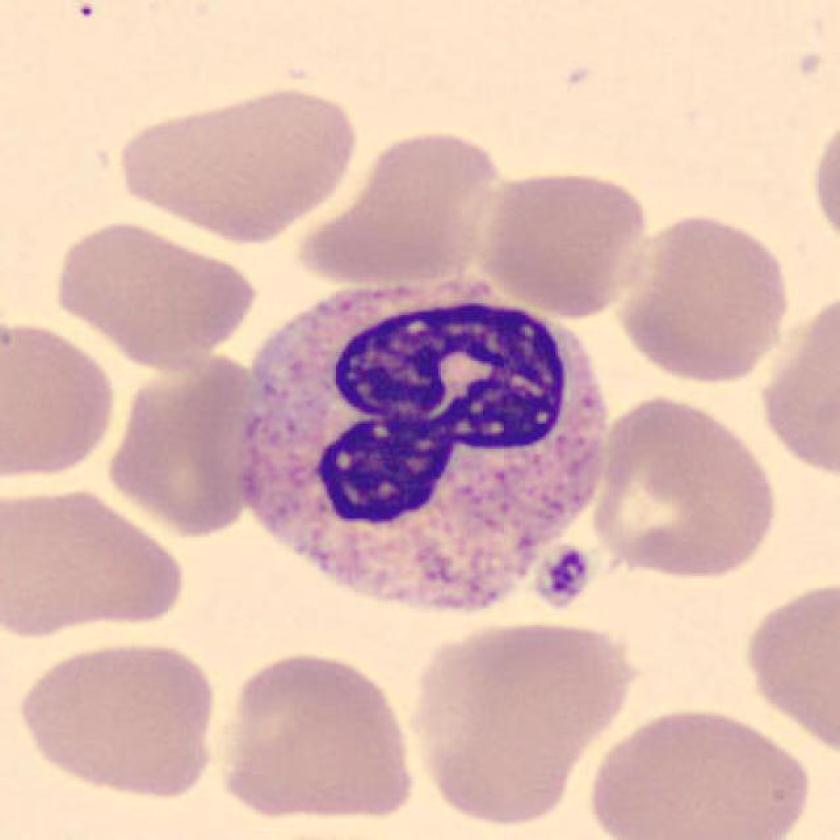neutrophil: (244, 283, 607, 613)
